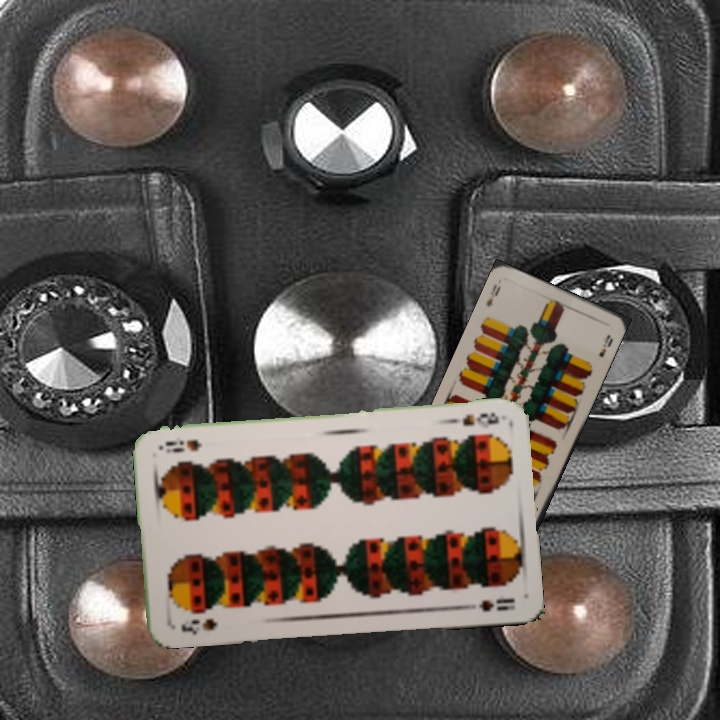E9: (482, 280, 503, 309)
S8: (446, 409, 501, 431), (177, 614, 220, 638)
